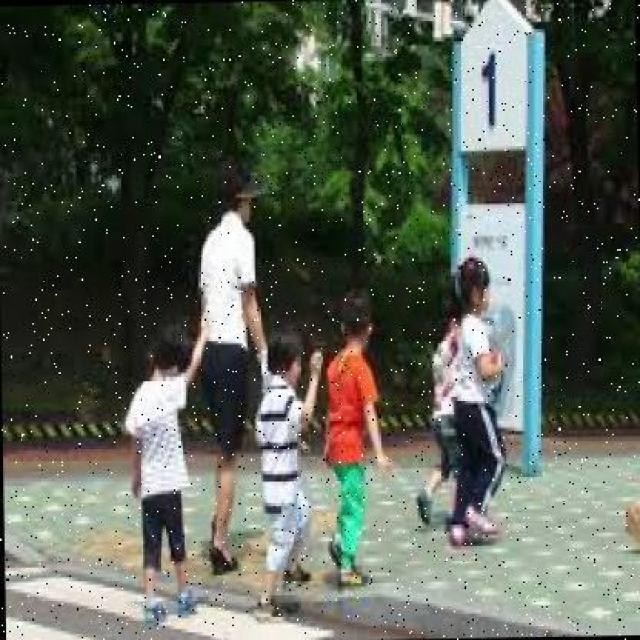Person: (200, 155, 268, 574), (126, 325, 209, 621), (323, 289, 388, 585), (254, 326, 320, 614), (452, 254, 508, 546)
